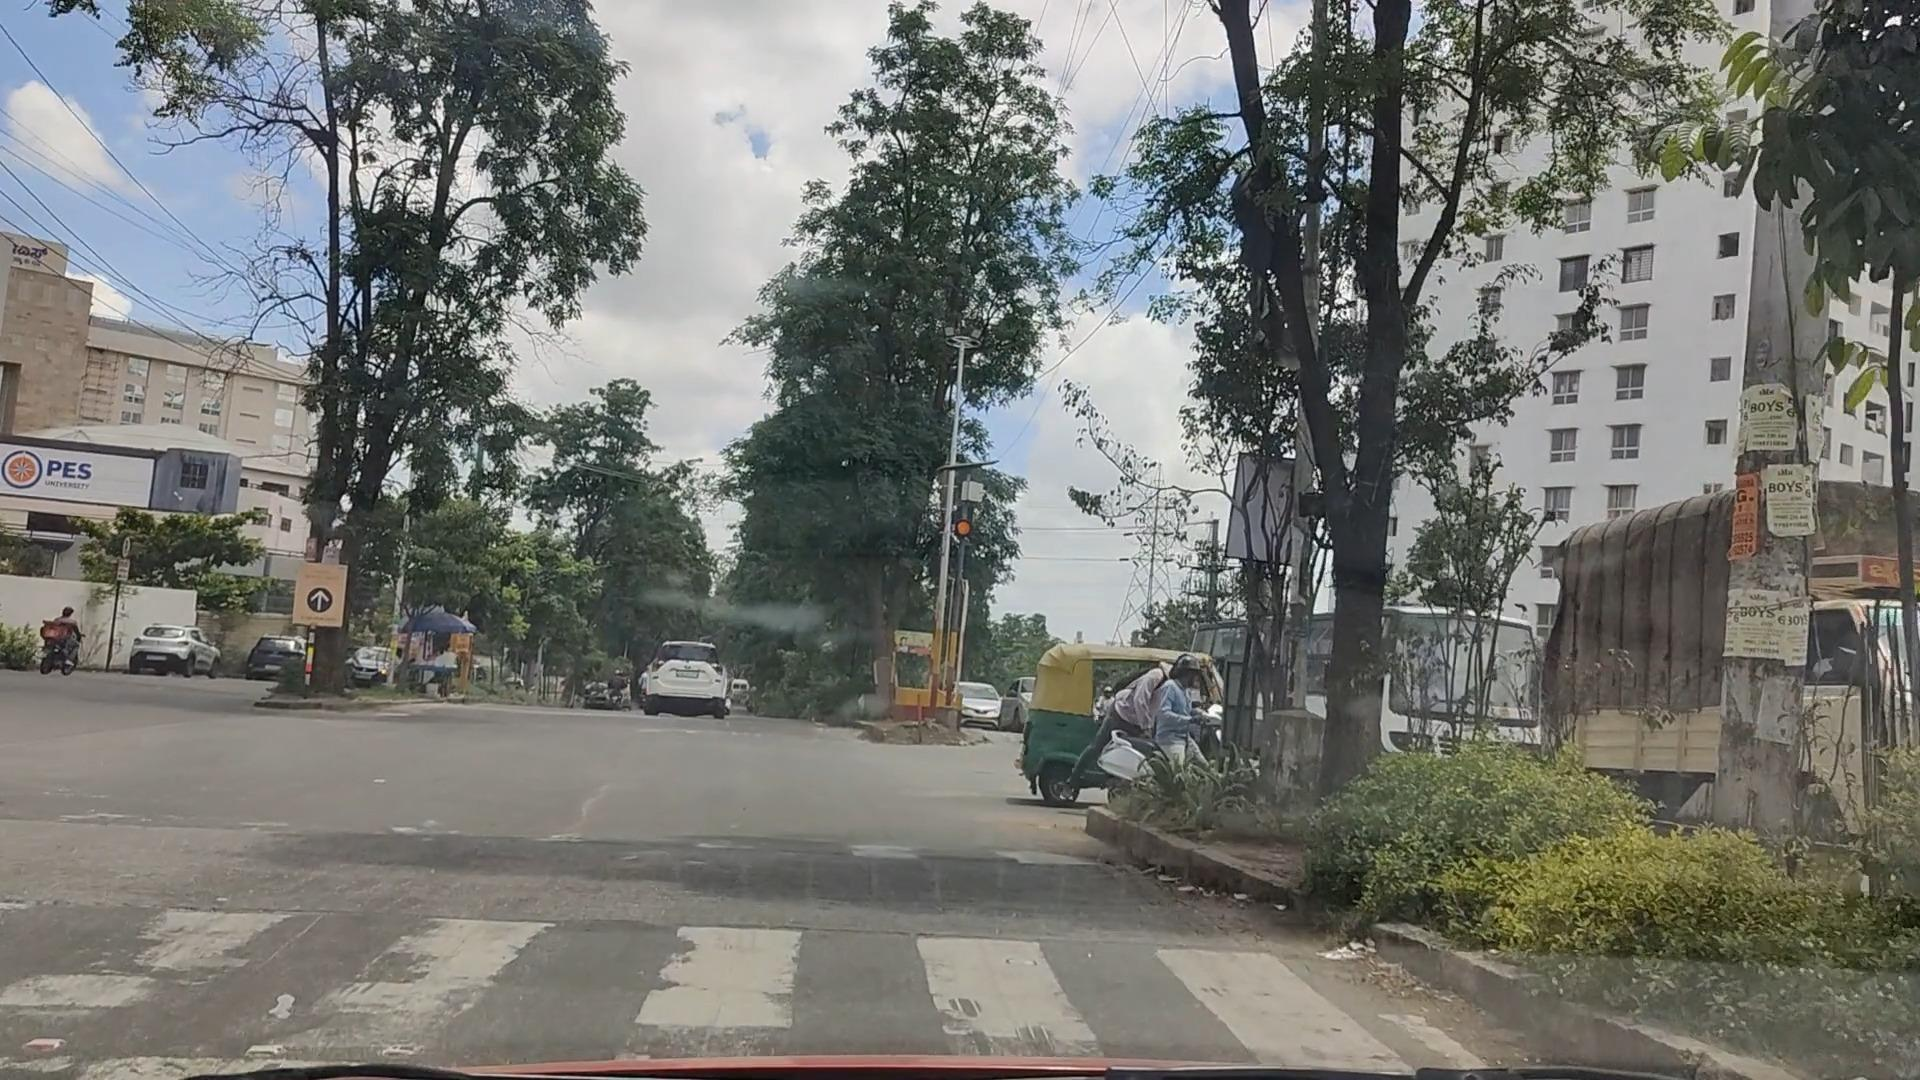SpeedBump: (0, 833, 1333, 1062)
